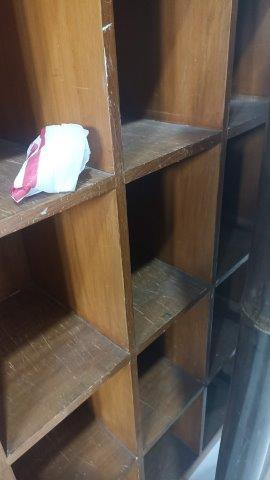plastik: (11, 121, 92, 202)
